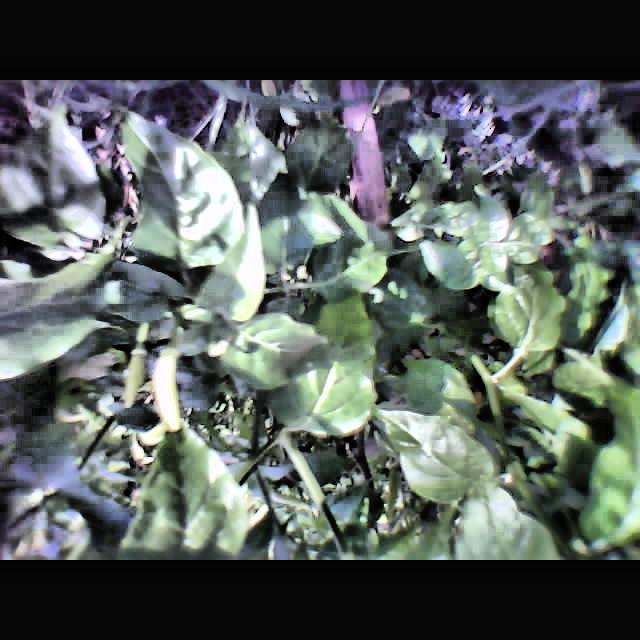Cabai: (162, 346, 189, 434)
